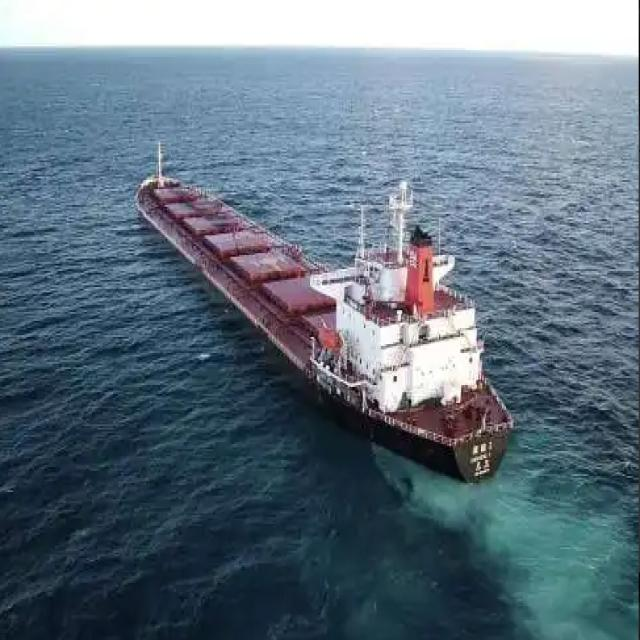cargoship: (135, 134, 512, 496)
